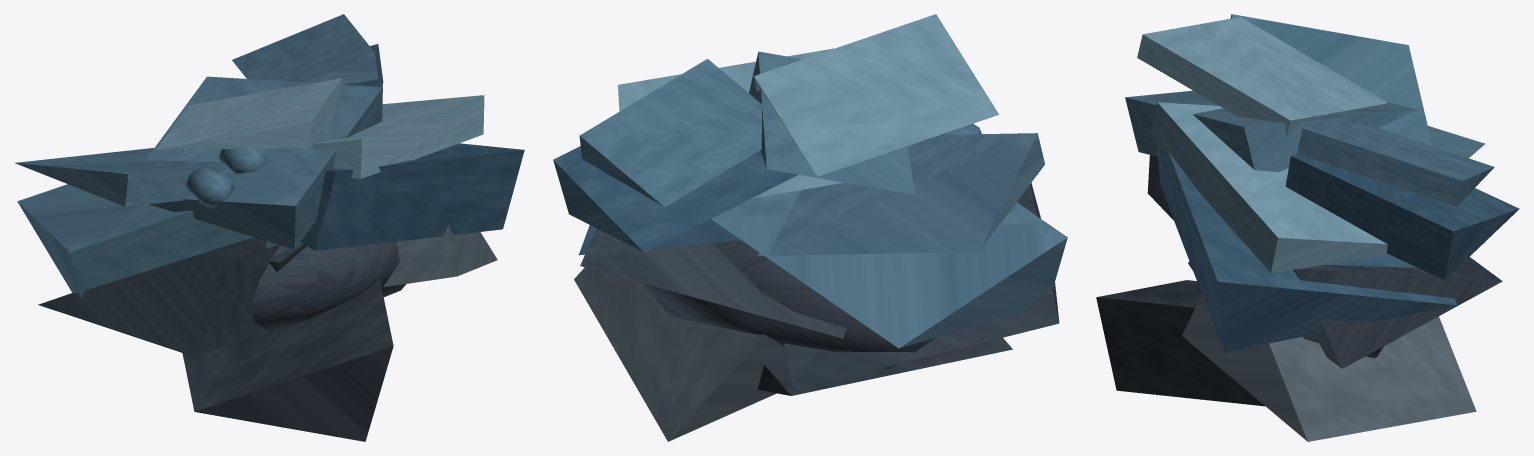
Rendered from Costra_Cobaltifera.fbx.
3 renders of one model, left to right at view 1: azimuth 30°, elevation 25°; view 2: azimuth 150°, elevation 25°; view 3: azimuth 270°, elevation 25°, orthographic. The views are drawn at different scales.
Parts seen in each view (by area): view 1: Costra_Cobaltifera; view 2: Costra_Cobaltifera; view 3: Costra_Cobaltifera.
Part boxes in pixels (x1,y1,x2,y2): Costra_Cobaltifera: (15,14,524,441); Costra_Cobaltifera: (553,14,1067,441); Costra_Cobaltifera: (1096,14,1519,441).
Bounding box in the file's own units: 1.59 × 1.21 × 1.06.
1 material, 1 textured.
